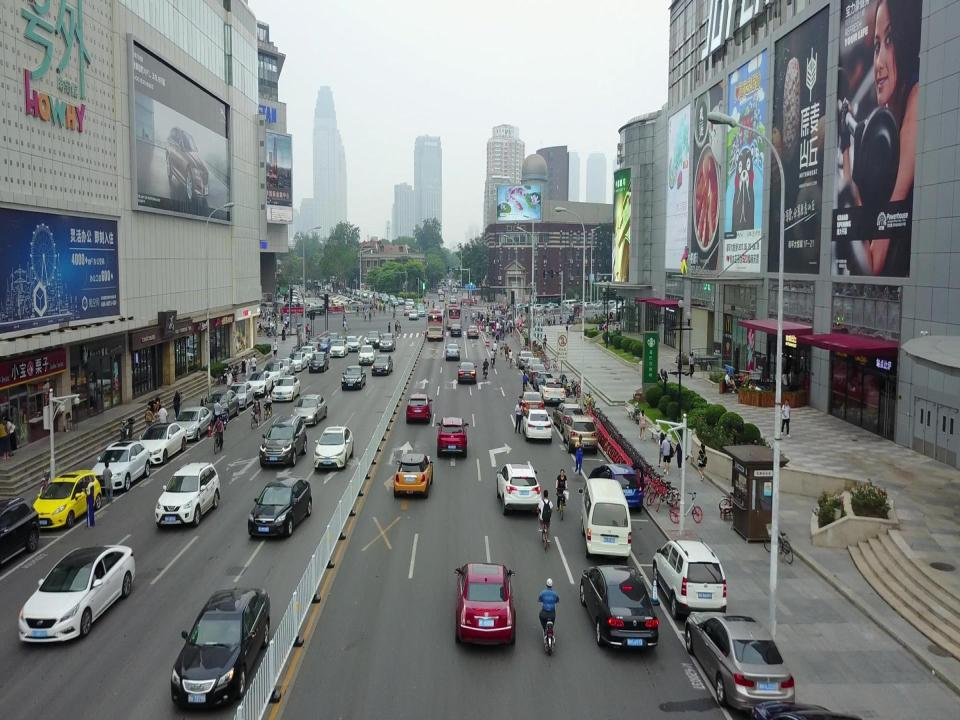bus: (427, 306, 445, 340), (445, 304, 461, 332)
car: (171, 588, 270, 707), (18, 545, 135, 642), (685, 611, 795, 713), (580, 565, 659, 650), (454, 563, 516, 645), (30, 470, 102, 528), (248, 476, 312, 537), (90, 441, 150, 490), (138, 423, 188, 463), (394, 453, 434, 499), (314, 426, 354, 470), (172, 406, 213, 441), (202, 390, 240, 422), (292, 395, 328, 425), (227, 382, 255, 409), (272, 375, 300, 402), (244, 371, 273, 397), (260, 360, 286, 385), (518, 391, 544, 416), (342, 364, 366, 389), (371, 354, 393, 375), (286, 351, 308, 371), (274, 357, 294, 378), (457, 363, 477, 384), (296, 346, 318, 364), (304, 341, 322, 359), (330, 338, 348, 356), (314, 337, 332, 354), (516, 352, 534, 369), (342, 336, 360, 352), (365, 331, 381, 348), (445, 343, 461, 360), (324, 333, 340, 348), (466, 325, 478, 338), (450, 324, 462, 337), (409, 309, 419, 320), (416, 307, 426, 316), (404, 305, 412, 315), (404, 302, 412, 311), (438, 292, 445, 298), (438, 296, 444, 302)
van: (653, 540, 727, 619), (578, 478, 632, 560), (154, 462, 220, 527), (0, 496, 40, 579), (588, 464, 644, 512), (259, 415, 307, 466), (496, 463, 542, 515), (563, 414, 597, 454), (436, 416, 468, 457), (522, 408, 552, 443), (552, 403, 584, 434), (406, 393, 432, 424), (538, 378, 564, 406), (309, 351, 329, 373), (532, 371, 554, 390), (526, 364, 546, 383), (358, 344, 376, 364), (524, 357, 542, 377), (379, 333, 396, 351), (406, 299, 415, 307), (450, 295, 456, 305)
